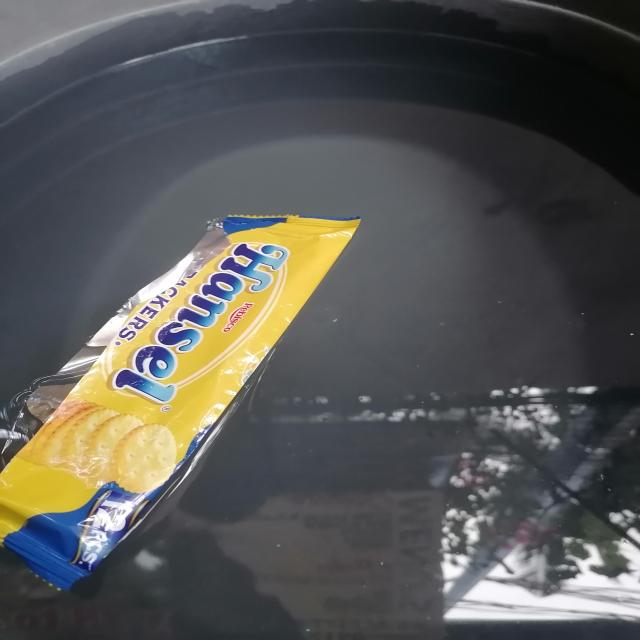Plastic Wrapper: (0, 197, 403, 605)
